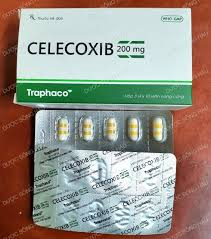Celecoxip: (128, 188, 157, 207), (53, 189, 85, 205), (131, 156, 160, 172), (85, 207, 119, 220), (91, 173, 130, 184), (61, 157, 91, 168), (152, 208, 171, 219)
